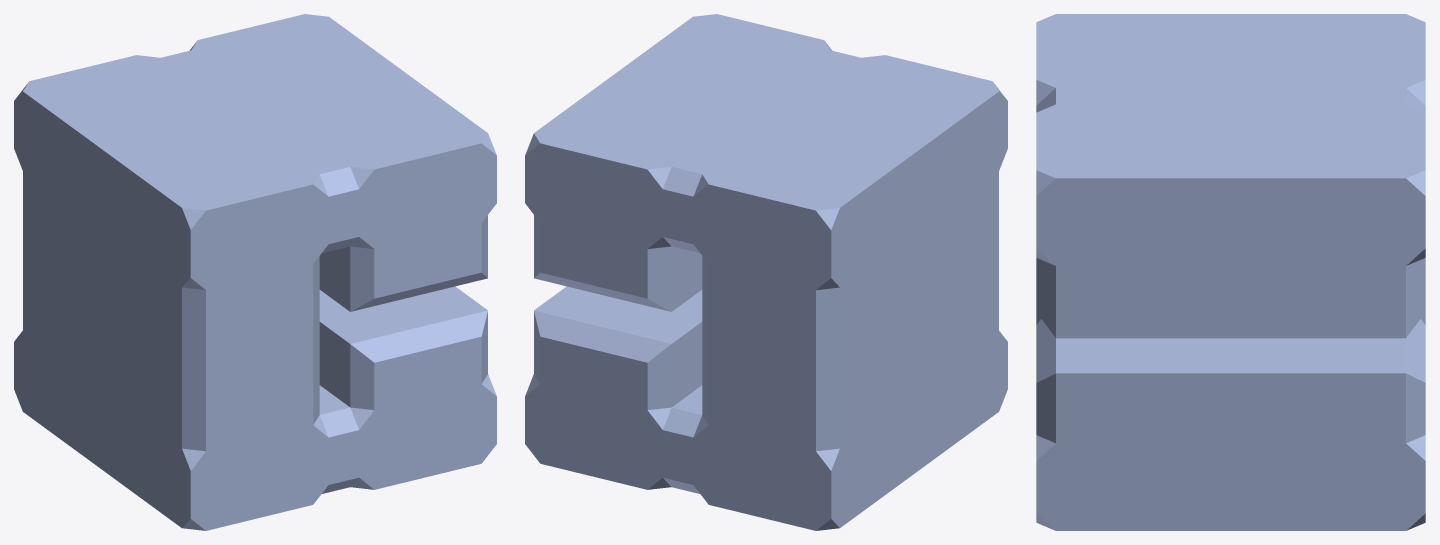
3 views of the same model, side by side, from view 1: azimuth 30°, elevation 25°; view 2: azimuth 150°, elevation 25°; view 3: azimuth 270°, elevation 25° (orthographic). The views are drawn at different scales.
Visible parts, largest first — view 1: Cube.013; view 2: Cube.013; view 3: Cube.013.
Part boxes in pixels (x1,y1,x2,y2): Cube.013: [14, 14, 496, 530]; Cube.013: [525, 14, 1007, 530]; Cube.013: [1036, 14, 1425, 530].
Bounding box in the file's own units: 100 × 100 × 100.
